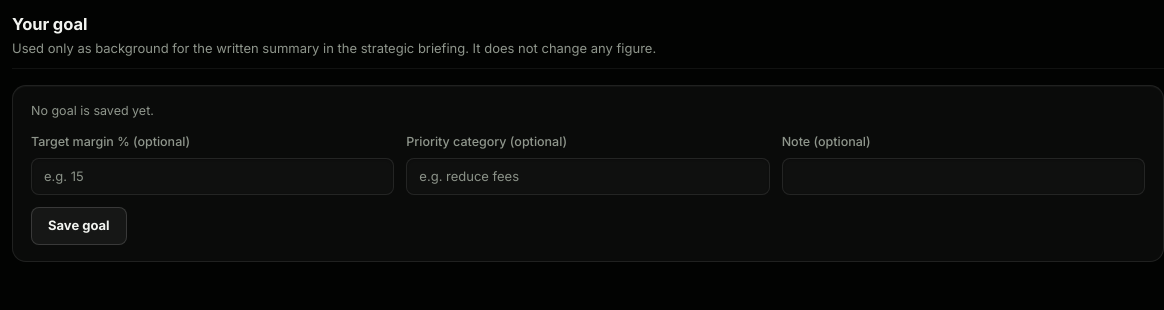
Test: Seller goal › a refused save is shown in words, never as Saved, and the stored goal is unchanged
Expected: the text "No goal is saved yet." is shown, [31,103,154,118]
Type "15" into the field labelled "Target margin % (optional)" at (213,177), box [31,158,394,195]
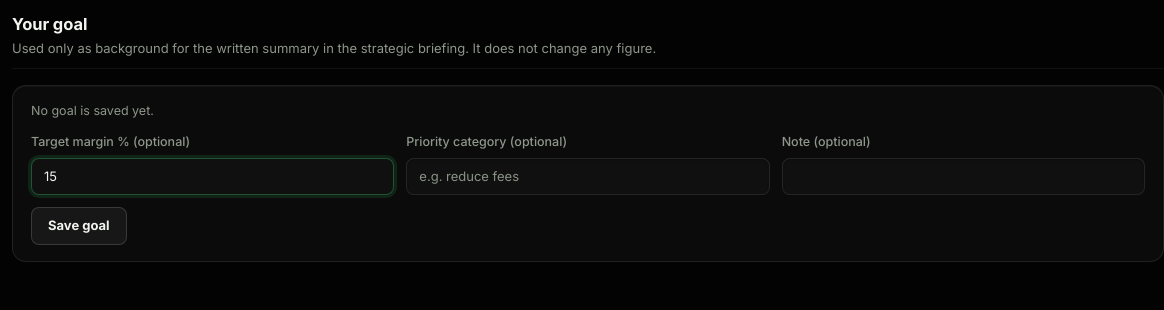
Click the button "Save goal" at (79,226), box [31,207,127,245]
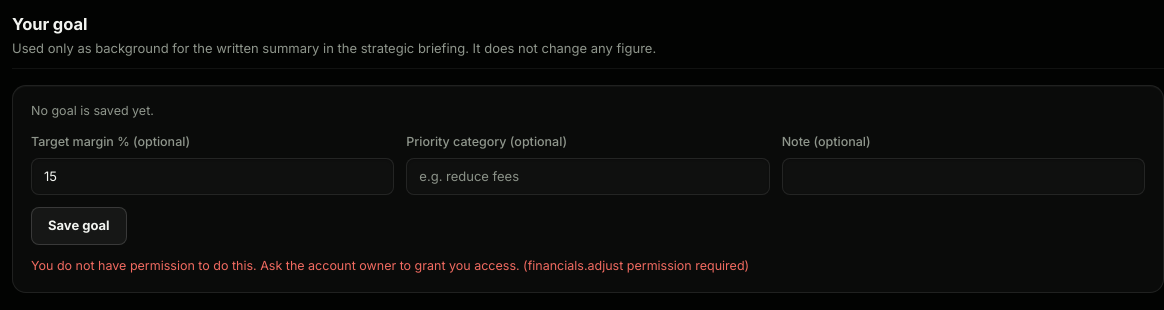
Expected: the text "No goal is saved yet." is shown, [31,103,154,118]
Expected: the message shows "do not have permission", [31,258,749,273]
